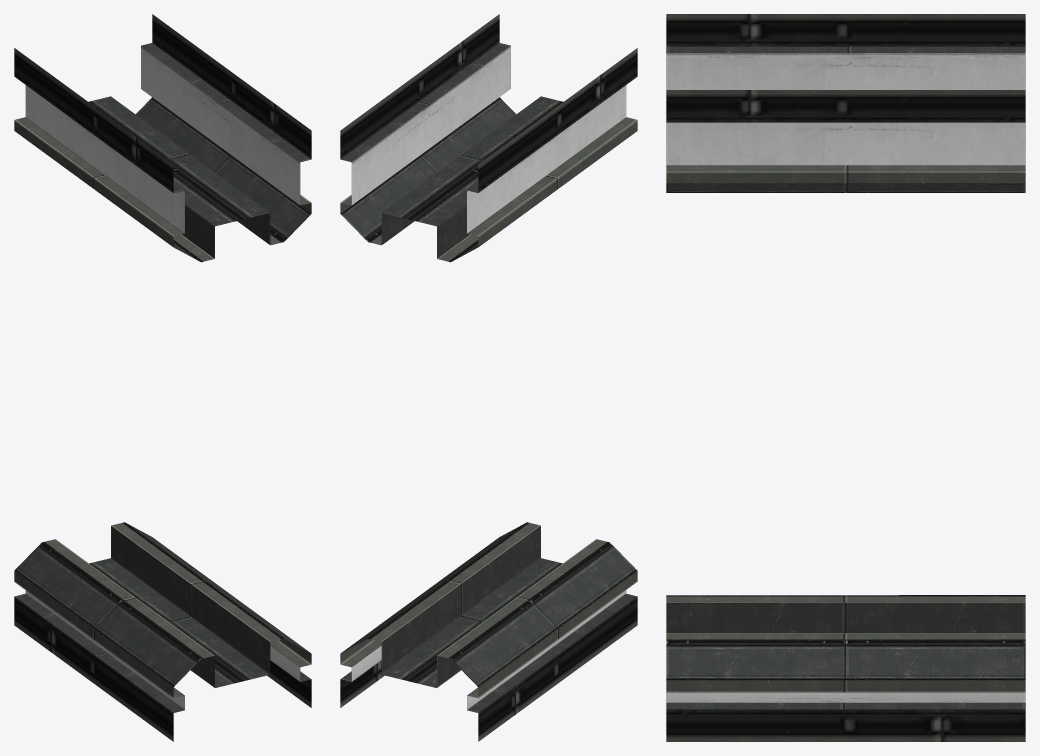
The model's file is Neon_WindowFrameMid.FBX.
The picture shows the model from 3 angles, left to right: view 1: azimuth 30°, elevation 25°; view 2: azimuth 150°, elevation 25°; view 3: azimuth 270°, elevation 25°; orthographic projection. The views are drawn at different scales.
Visible parts, largest first — view 1: Neon_WindowFrameMid; view 2: Neon_WindowFrameMid; view 3: Neon_WindowFrameMid.
Boxes of the visible parts, x1,y1,x2,y2 form: Neon_WindowFrameMid: (14, 14, 311, 741); Neon_WindowFrameMid: (340, 14, 637, 741); Neon_WindowFrameMid: (666, 14, 1025, 741).
Size of the model in its own units: 1 by 4 by 2.
